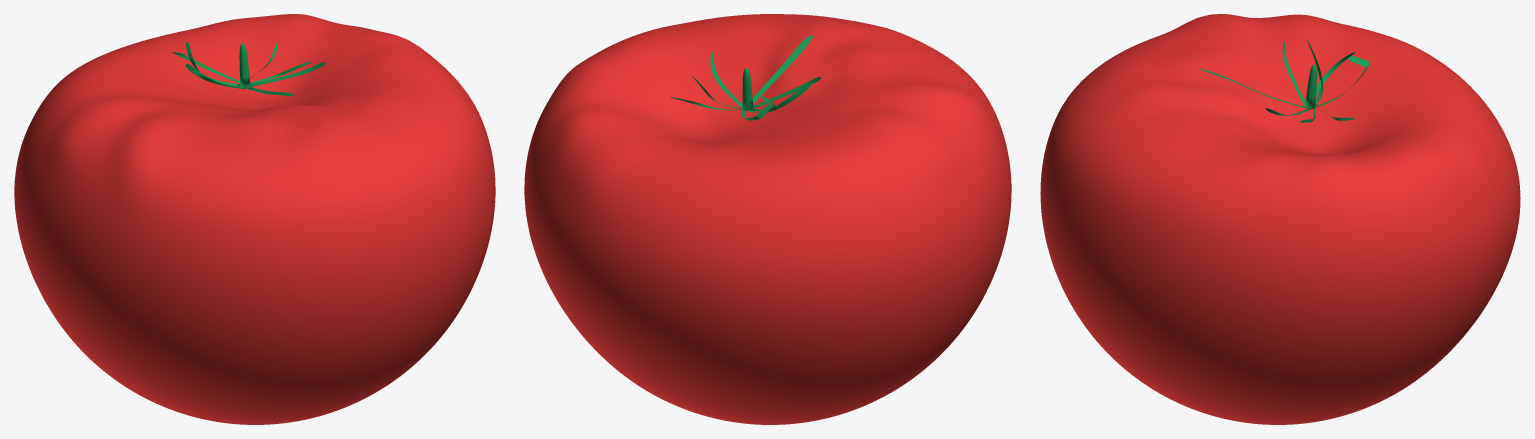
File: tomato.glb
3 renders of one model, left to right at view 1: azimuth 30°, elevation 25°; view 2: azimuth 150°, elevation 25°; view 3: azimuth 270°, elevation 25°, orthographic.
Parts seen in each view (by area): view 1: Sphere; view 2: Sphere; view 3: Sphere.
Part boxes in pixels (box(x1,y1,x2,y2)): Sphere: box(14, 14, 495, 424); Sphere: box(524, 14, 1011, 424); Sphere: box(1040, 14, 1520, 424).
Bounding box in the file's own units: 1.99 × 1.62 × 2.
